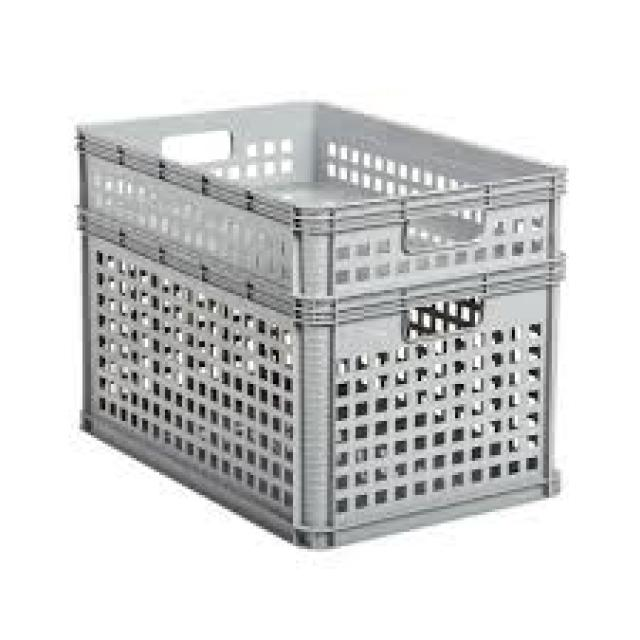basket: (66, 96, 571, 554)
